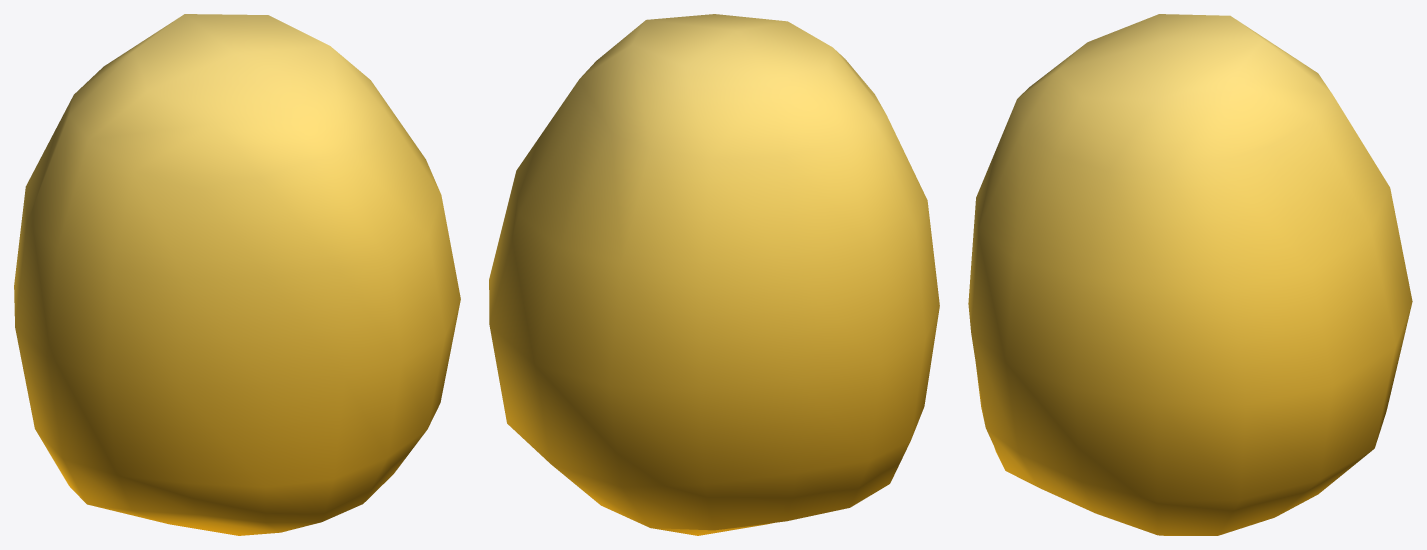
File: patato_005.fbx
3 views of the same model, side by side, from view 1: azimuth 30°, elevation 25°; view 2: azimuth 150°, elevation 25°; view 3: azimuth 270°, elevation 25° (orthographic).
Parts seen in each view (by area): view 1: patato_005; view 2: patato_005; view 3: patato_005.
Part boxes in pixels (x1,y1,x2,y2): patato_005: (14,14,460,535); patato_005: (489,14,939,535); patato_005: (968,14,1412,535).
Bounding box in the file's own units: 6.02 × 5.87 × 7.07.
